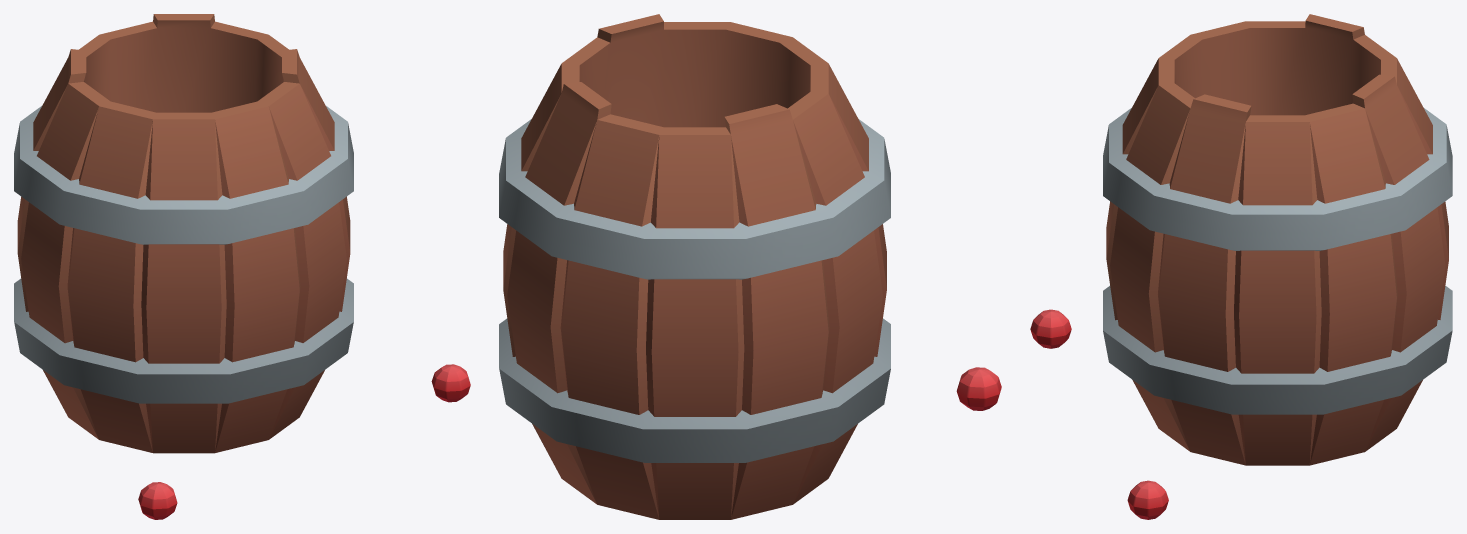
The model's file is apple_barrel_11.glb.
3 renders of one model, left to right at view 1: azimuth 30°, elevation 25°; view 2: azimuth 150°, elevation 25°; view 3: azimuth 270°, elevation 25°, orthographic. The views are drawn at different scales.
Visible parts, largest first — view 1: apple_barrel_11; view 2: apple_barrel_11; view 3: apple_barrel_11.
Boxes of the visible parts, x1=… form: apple_barrel_11: x1=14, y1=14, x2=470, y2=519; apple_barrel_11: x1=499, y1=14, x2=1001, y2=519; apple_barrel_11: x1=1030, y1=14, x2=1452, y2=519.
Bounding box in the file's own units: 1.38 × 1.2 × 1.3.
Materials: 2 (2 with a texture image).
